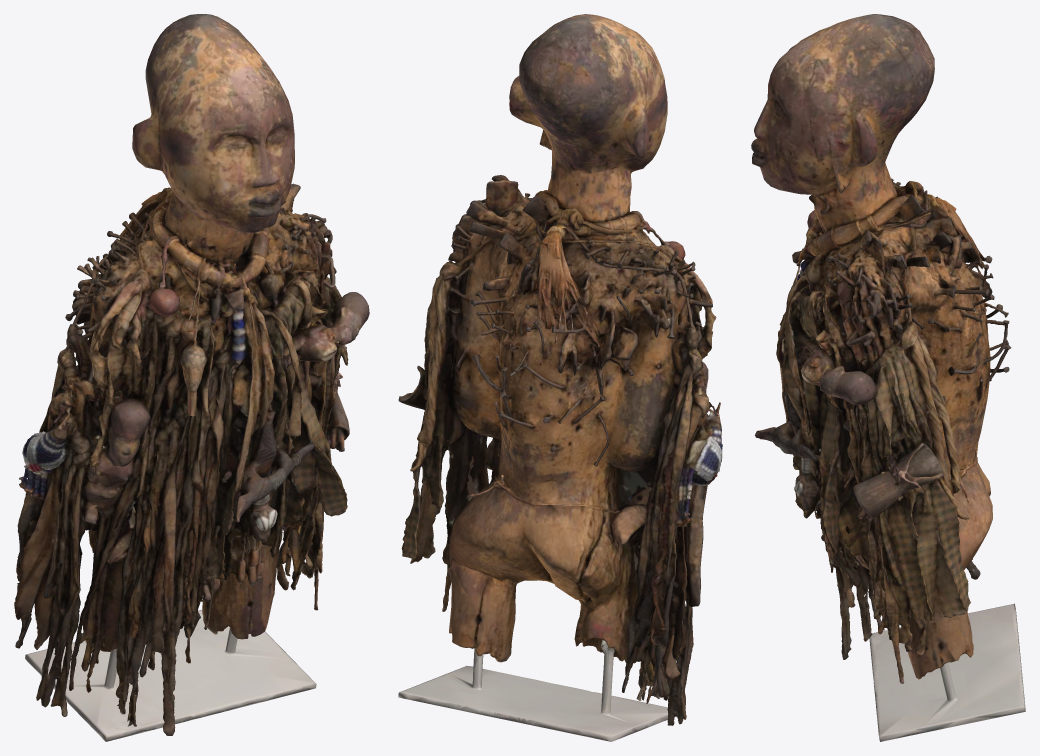
The model's file is preview.glb.
3 views of the same model, side by side, from view 1: azimuth 30°, elevation 25°; view 2: azimuth 150°, elevation 25°; view 3: azimuth 270°, elevation 25° (orthographic). The views are drawn at different scales.
Parts seen in each view (by area): view 1: ADVIMG_1979_206_127_PowerFigure_n3d; view 2: ADVIMG_1979_206_127_PowerFigure_n3d; view 3: ADVIMG_1979_206_127_PowerFigure_n3d.
Boxes of the visible parts, left/top/right/bottom form: ADVIMG_1979_206_127_PowerFigure_n3d: left=14, top=14, right=369, bottom=741; ADVIMG_1979_206_127_PowerFigure_n3d: left=398, top=14, right=722, bottom=741; ADVIMG_1979_206_127_PowerFigure_n3d: left=751, top=14, right=1025, bottom=741.
Bounding box in the file's own units: 0.2989 × 0.6312 × 0.2338.
Materials: 1 (1 with a texture image).
